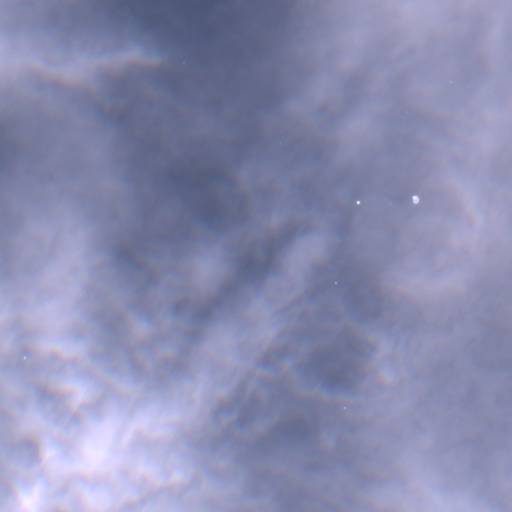Iceberg: (412, 195, 419, 203), (356, 200, 359, 204), (334, 282, 337, 283), (183, 62, 184, 63), (24, 357, 25, 358), (344, 407, 345, 408)
